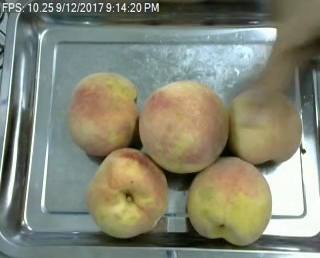Peach: (138, 81, 229, 172), (187, 157, 272, 246), (87, 148, 168, 239), (66, 71, 139, 158), (230, 85, 301, 164)
